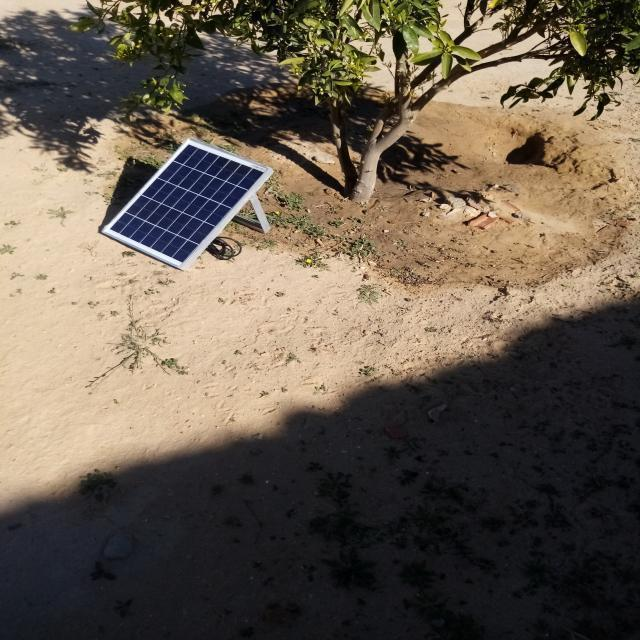Normal Solar Panel: (102, 137, 271, 270)
